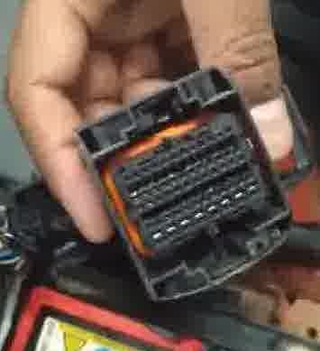connector: (72, 67, 295, 304)
